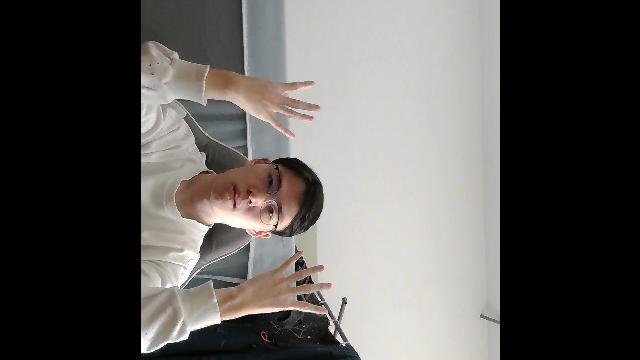four: (232, 248, 336, 317), (228, 71, 326, 140)
